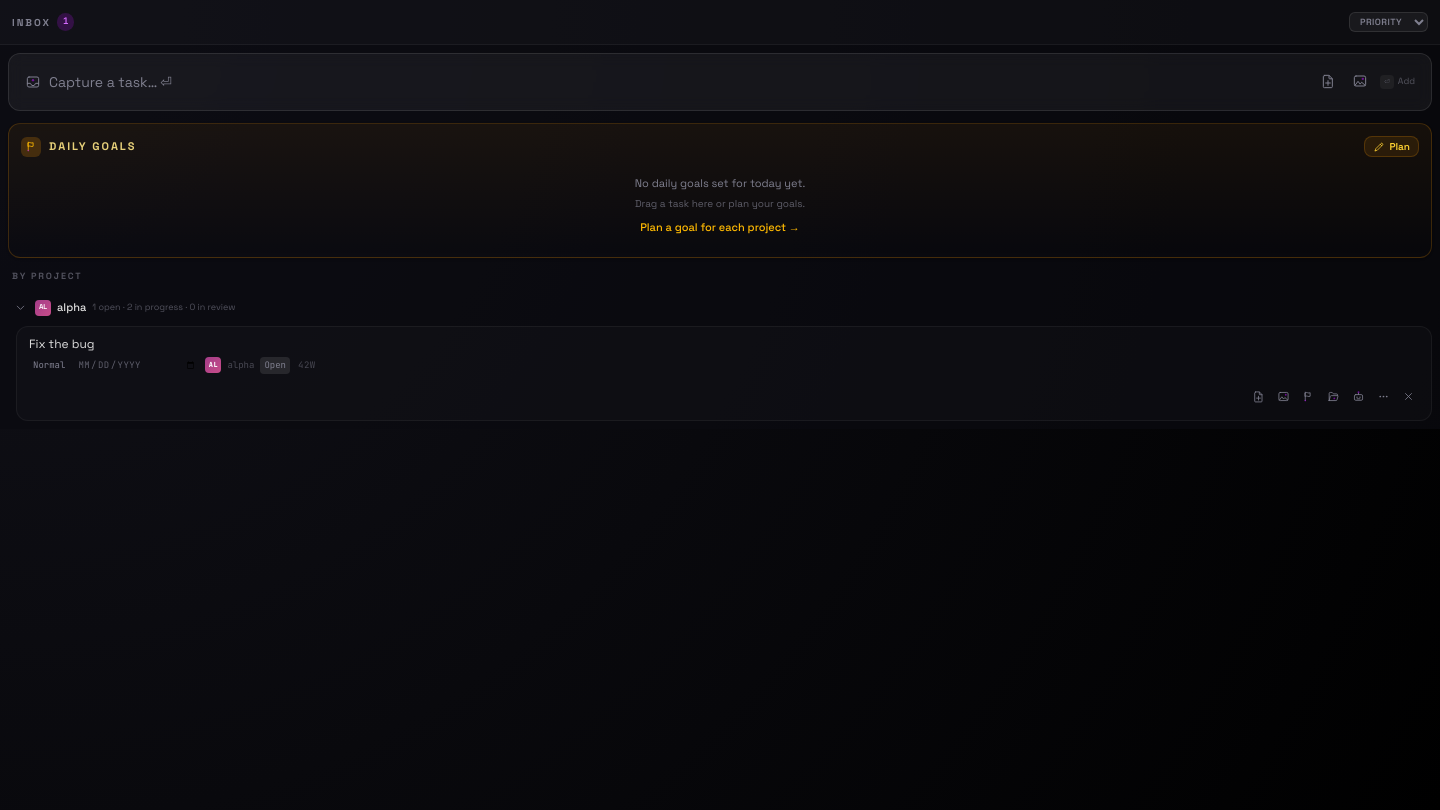
Test case: InboxPanel › collapses and expands a project group
Expected: the button "Fix the bug" is shown, [29,334,1419,352]
Click the button with test id "inbox-group-collapse-/repos/alpha": [20, 308] box [12,294,29,322]
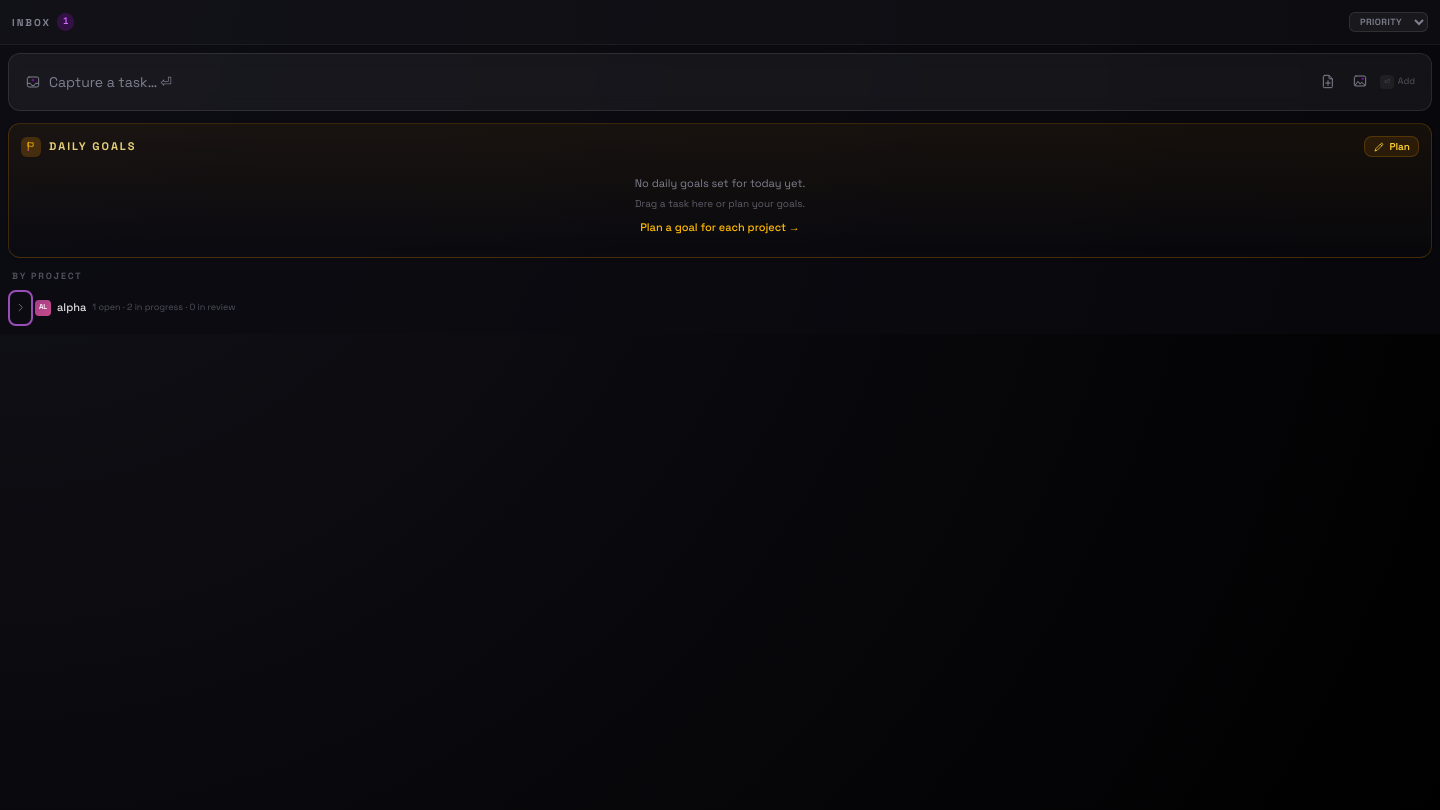
Result: the button "Fix the bug" is gone
Click the button with test id "inbox-group-collapse-/repos/alpha": [20, 308] box [12,294,29,322]
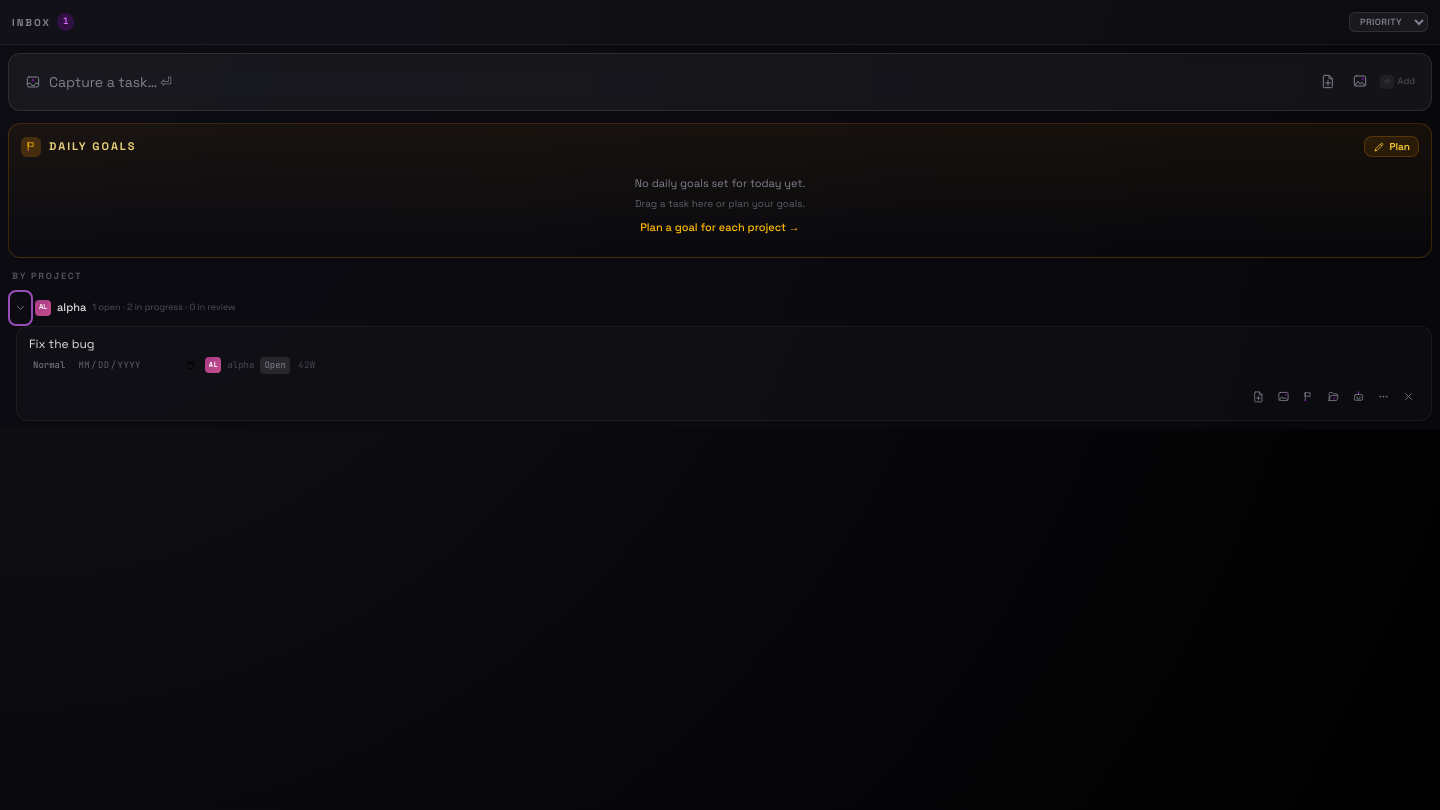
Result: the button "Fix the bug" is shown at [29,334,1419,352]
